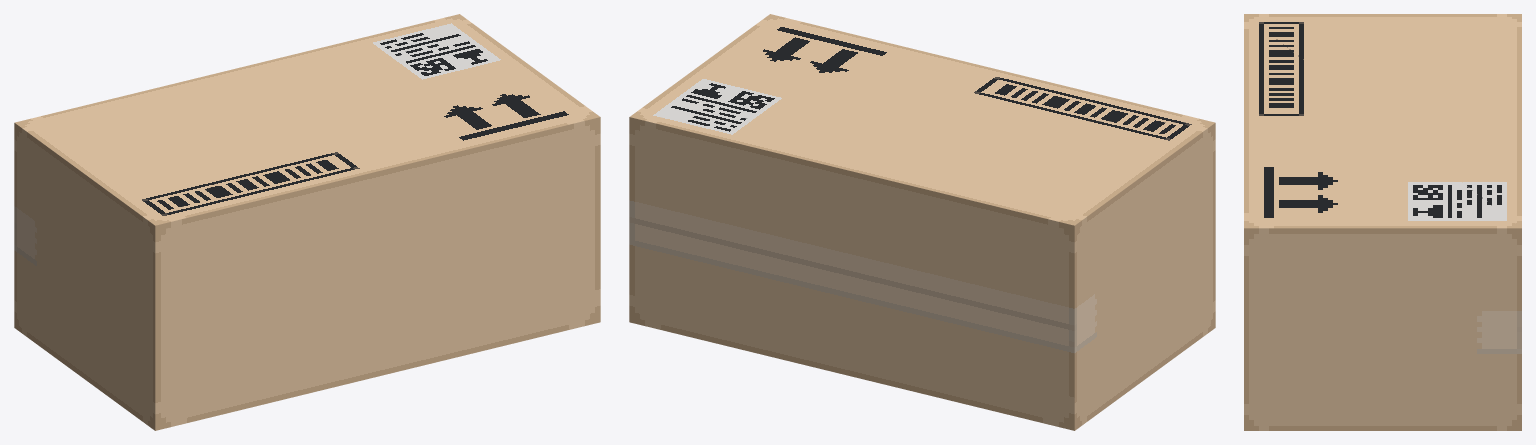
The model's file is Table1.gltf.
The picture shows the model from 3 angles, left to right: view 1: azimuth 30°, elevation 25°; view 2: azimuth 150°, elevation 25°; view 3: azimuth 270°, elevation 25°; orthographic projection.
Visible parts, largest first — view 1: cuboid; view 2: cuboid; view 3: cuboid.
Part boxes in pixels (bbox=[...]): cuboid: bbox=[14, 14, 600, 430]; cuboid: bbox=[629, 14, 1215, 430]; cuboid: bbox=[1244, 14, 1521, 430].
Size of the model in its own units: 5.25 by 2.31 by 2.88.
Materials: 1 (1 with a texture image).
